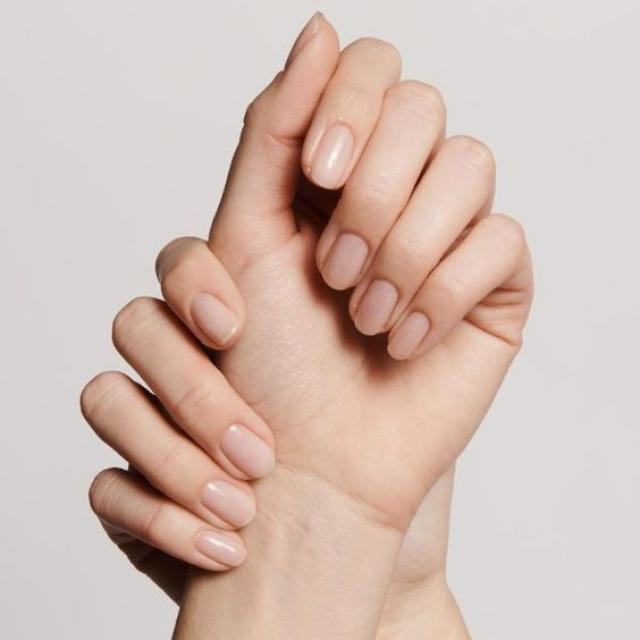Fingernail: (308, 123, 353, 190), (223, 426, 277, 481), (323, 232, 371, 291), (203, 482, 257, 531), (357, 279, 399, 338), (389, 310, 431, 365), (192, 296, 237, 344), (197, 533, 246, 569)
